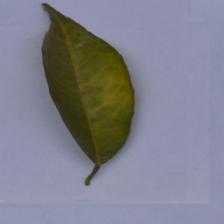greening: (76, 39, 140, 122)
